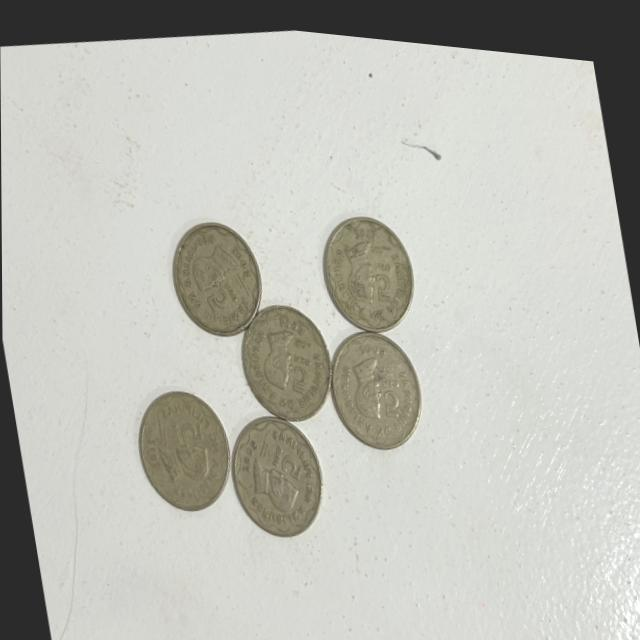5_Old_Front: (366, 355, 407, 415), (159, 404, 209, 452), (264, 429, 307, 481), (199, 273, 246, 318), (365, 242, 398, 300), (282, 342, 312, 391)
